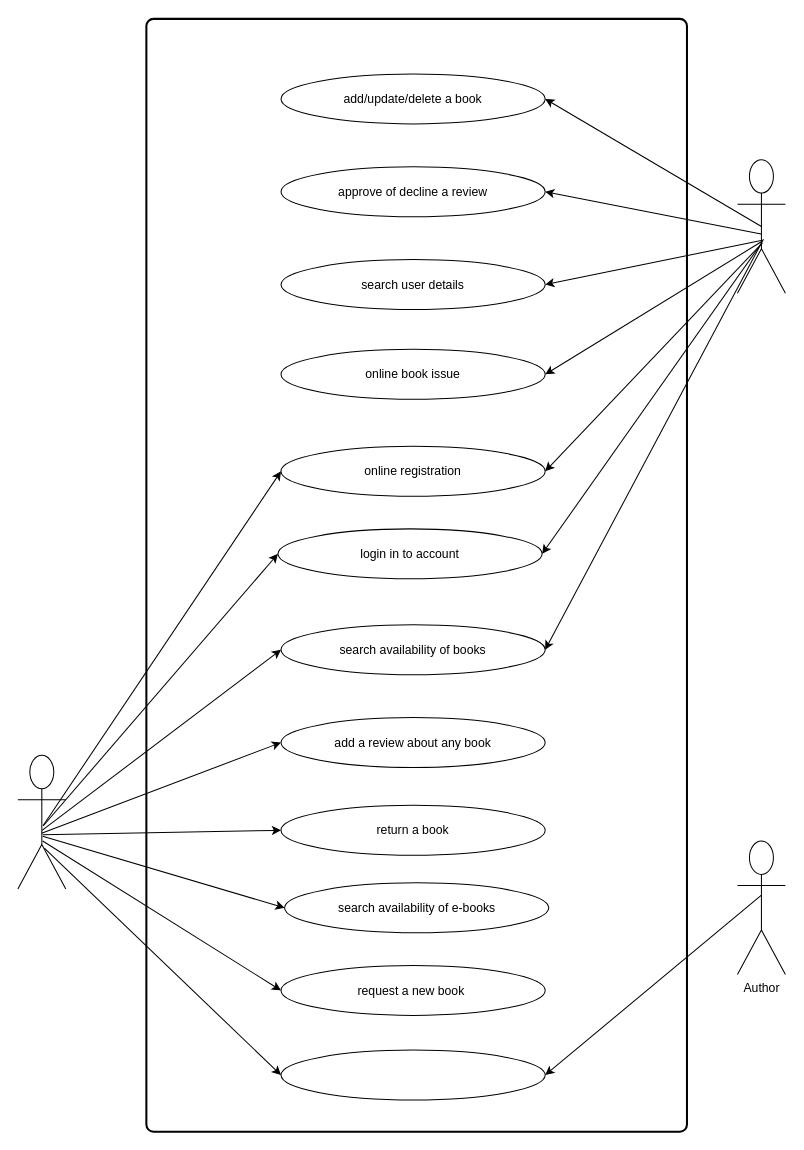
Some shapes in this 804 by 1150 pixel diagram are drawn without their labels. The shapes that lost their labels are listed below. From the top down, each one's centre as x and y in pixels, then its label:
At [760,226]: "Admin".
At [41,821]: "User".
At [412,1074]: "publish own journals".
